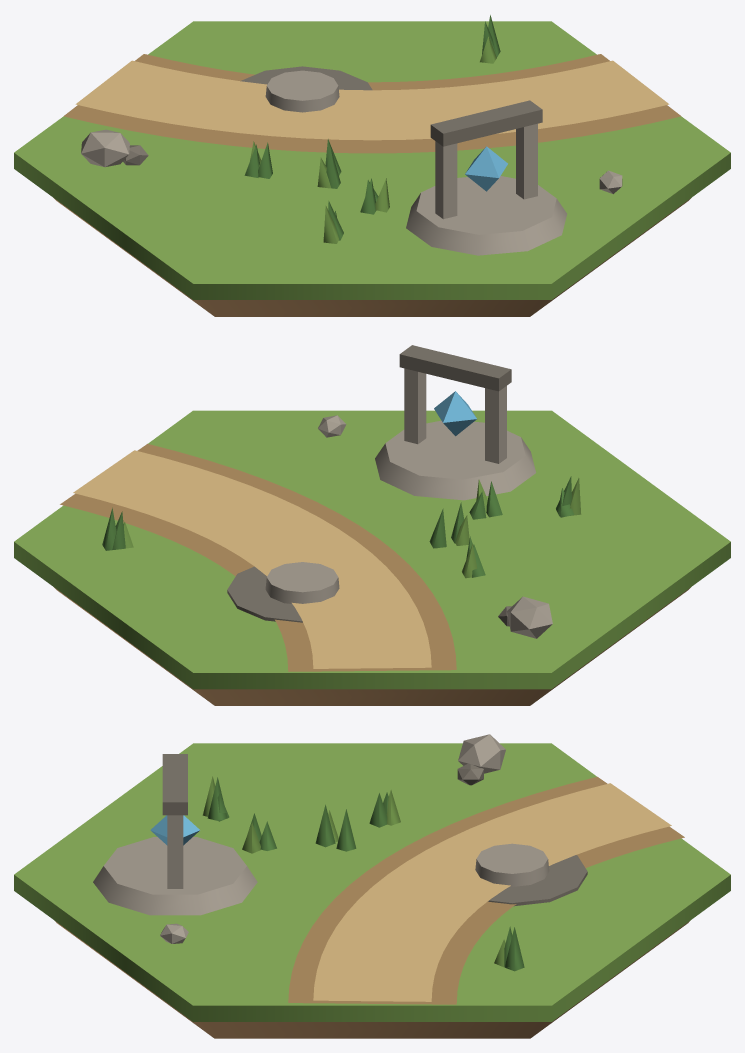
File: landmark_shrine.glb
3 renders of one model, top to bottom at view 1: azimuth 30°, elevation 25°; view 2: azimuth 150°, elevation 25°; view 3: azimuth 270°, elevation 25°, orthographic.
Visible parts, largest first — view 1: turf, road, shrine_dais, tile_base, shrine_pillar (×2), shrine_lintel, tower_slot_1_plate, rock, tower_slot_1_apron, shrine_crystal; view 2: turf, road, shrine_dais, tile_base, shrine_pillar (×2), shrine_lintel, tower_slot_1_plate, tower_slot_1_apron, rock, shrine_crystal; view 3: turf, road, shrine_dais, tile_base, tower_slot_1_plate, tower_slot_1_apron, shrine_lintel, rock, shrine_pillar, shrine_crystal.
Boxes of the visible parts, x1=… form: turf: x1=14, y1=21, x2=730, y2=299; road: x1=64, y1=54, x2=680, y2=153; shrine_dais: x1=406, y1=176, x2=566, y2=255; tile_base: x1=54, y1=198, x2=690, y2=316; shrine_pillar (×2): x1=435, y1=123, x2=537, y2=219; shrine_lintel: x1=430, y1=100, x2=542, y2=146; tower_slot_1_plate: x1=265, y1=70, x2=339, y2=112; rock: x1=81, y1=129, x2=129, y2=167; tower_slot_1_apron: x1=240, y1=66, x2=372, y2=90; shrine_crystal: x1=465, y1=146, x2=507, y2=191; turf: x1=14, y1=410, x2=730, y2=689; road: x1=60, y1=444, x2=456, y2=671; shrine_dais: x1=375, y1=420, x2=535, y2=500; tile_base: x1=54, y1=587, x2=690, y2=705; shrine_pillar (×2): x1=404, y1=368, x2=506, y2=463; shrine_lintel: x1=399, y1=345, x2=511, y2=391; tower_slot_1_plate: x1=265, y1=562, x2=339, y2=603; tower_slot_1_apron: x1=227, y1=566, x2=302, y2=622; rock: x1=507, y1=596, x2=552, y2=638; shrine_crystal: x1=434, y1=391, x2=476, y2=436; turf: x1=14, y1=743, x2=730, y2=1021; road: x1=288, y1=776, x2=684, y2=1004; shrine_dais: x1=93, y1=837, x2=257, y2=915; tile_base: x1=55, y1=921, x2=689, y2=1038; tower_slot_1_plate: x1=475, y1=843, x2=549, y2=886; tower_slot_1_apron: x1=488, y1=855, x2=587, y2=906; shrine_lintel: x1=162, y1=754, x2=187, y2=815; rock: x1=458, y1=734, x2=505, y2=773; shrine_pillar: x1=167, y1=815, x2=183, y2=888; shrine_crystal: x1=150, y1=815, x2=199, y2=845.
Bounding box in the file's own units: 1.74 × 0.47 × 2.
